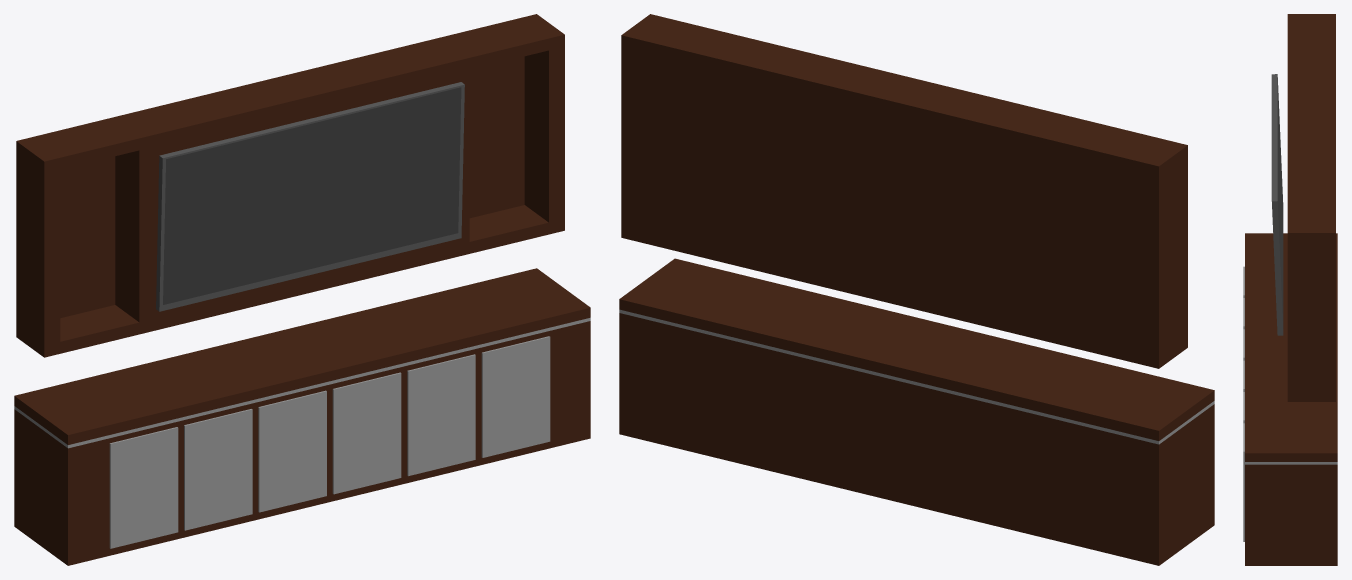
File: tvShelf.fbx
3 renders of one model, left to right at view 1: azimuth 30°, elevation 25°; view 2: azimuth 150°, elevation 25°; view 3: azimuth 270°, elevation 25°, orthographic. The views are drawn at different scales.
Parts seen in each view (by area): view 1: TV Shelf, TV Shelf.001, TV; view 2: TV Shelf.001, TV Shelf; view 3: TV Shelf, TV Shelf.001, TV.
Boxes of the visible parts, x1,y1,x2,y2 form: TV Shelf: [14, 268, 590, 565]; TV Shelf.001: [16, 14, 564, 357]; TV: [156, 82, 464, 311]; TV Shelf.001: [621, 14, 1187, 368]; TV Shelf: [619, 258, 1214, 565]; TV Shelf: [1243, 233, 1337, 565]; TV Shelf.001: [1287, 14, 1335, 401]; TV: [1271, 74, 1283, 335].
Bounding box in the file's own units: 268 × 189 × 48.74.
